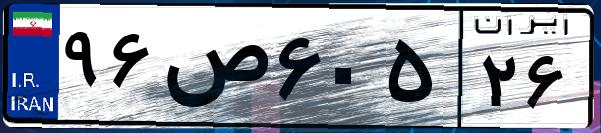0: (330, 28, 385, 110)
2: (475, 38, 525, 113)
5: (385, 28, 445, 110)
6: (270, 28, 330, 110), (525, 38, 570, 115), (110, 28, 158, 98)
9: (57, 26, 110, 100)
ص: (158, 20, 270, 120)
